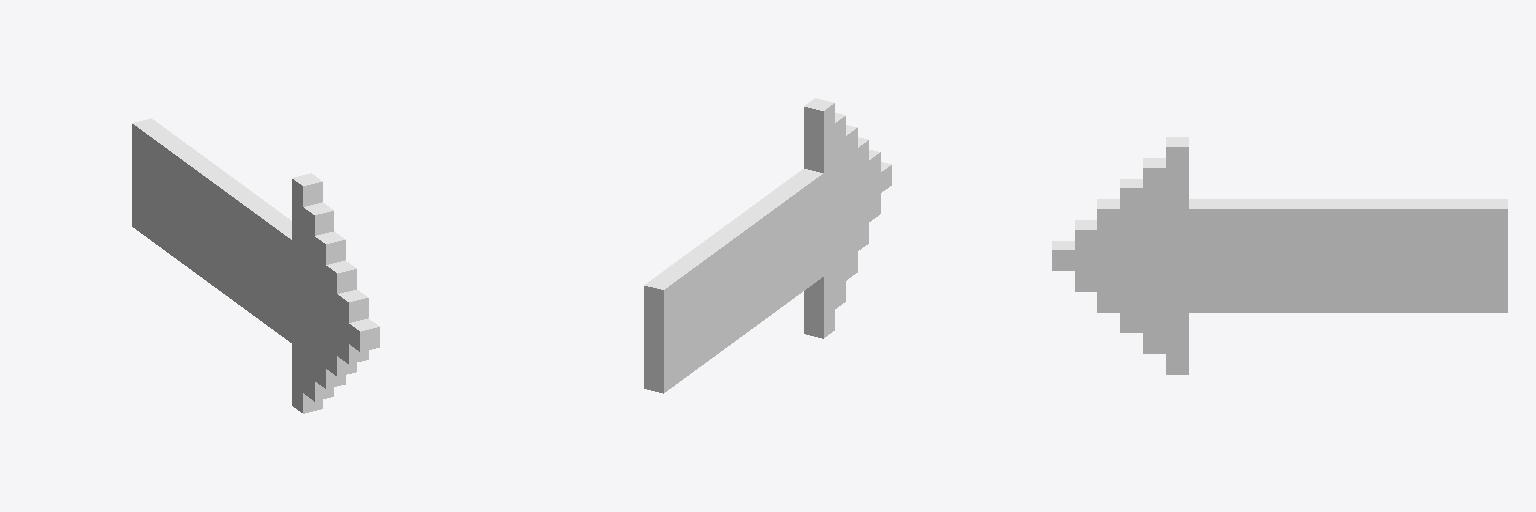
File: NeoArrow.obj
The picture shows the model from 3 angles: view 1: azimuth 30°, elevation 25°; view 2: azimuth 150°, elevation 25°; view 3: azimuth 270°, elevation 25°; orthographic projection.
Visible parts, largest first — view 1: object 1; view 2: object 1; view 3: object 1.
Boxes of the visible parts, x1=… form: object 1: x1=132, y1=118, x2=379, y2=413; object 1: x1=644, y1=98, x2=891, y2=393; object 1: x1=1052, y1=137, x2=1507, y2=374.
Bounding box in the file's own units: 0.1 × 1.1 × 2.